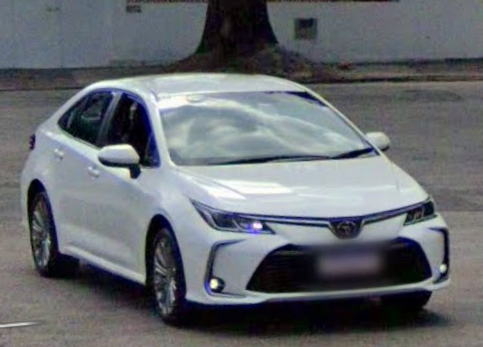car: (20, 75, 452, 323)
